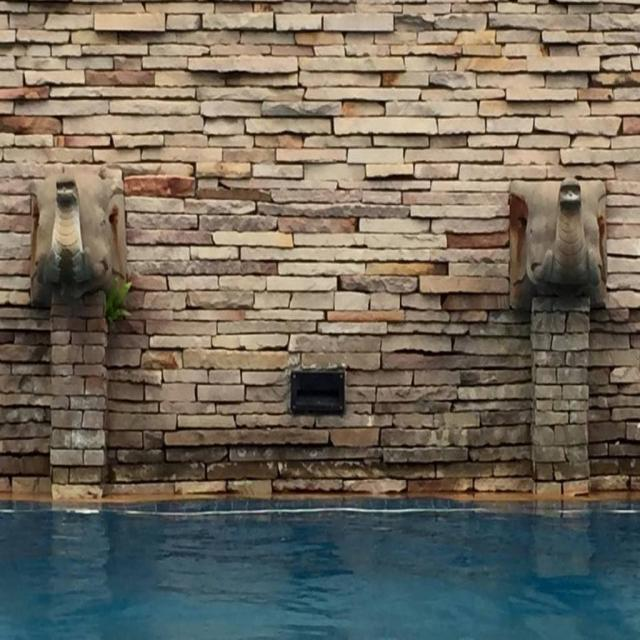elephant: (507, 168, 612, 322)
